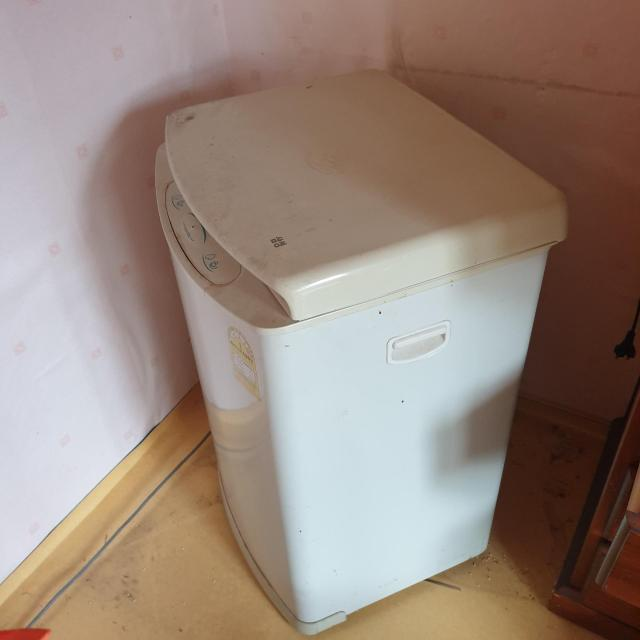refrigerator: (152, 69, 568, 637)
